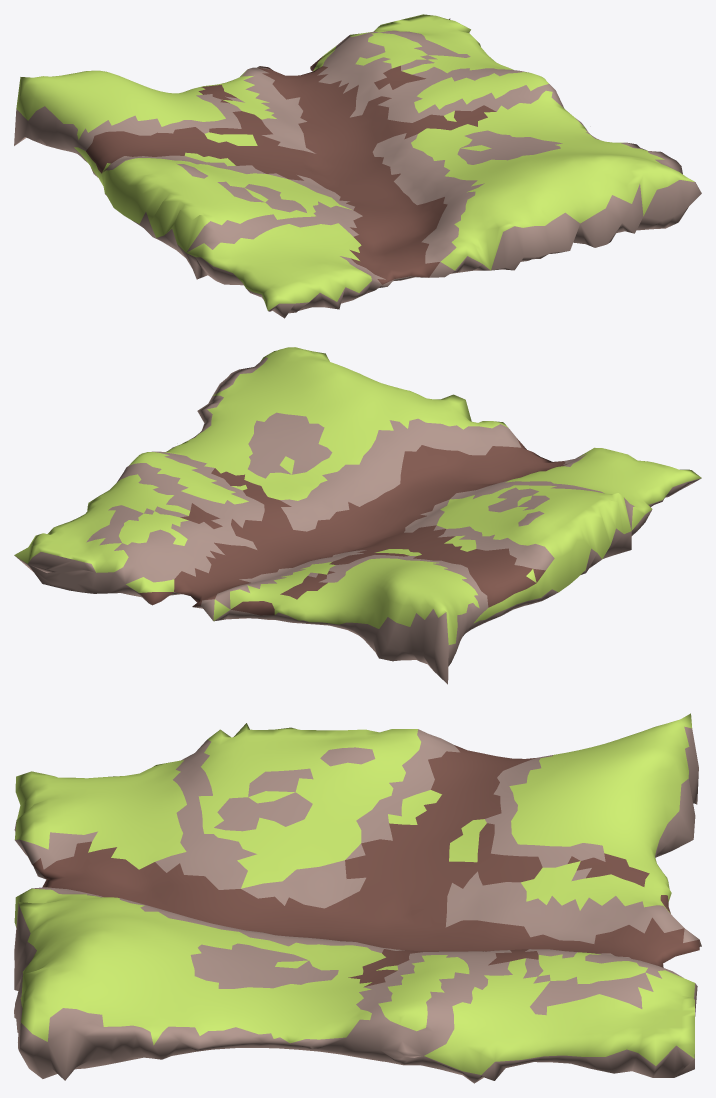
3 views of the same model, one above another, from view 1: azimuth 30°, elevation 25°; view 2: azimuth 150°, elevation 25°; view 3: azimuth 270°, elevation 25° (orthographic). The views are drawn at different scales.
Parts seen in each view (by area): view 1: Sol; view 2: Sol; view 3: Sol.
Part boxes in pixels (<box>): Sol: <box>14,14,701,318</box>; Sol: <box>14,347,701,684</box>; Sol: <box>14,713,701,1083</box>.
Bounding box in the file's own units: 103 × 16.65 × 102.
